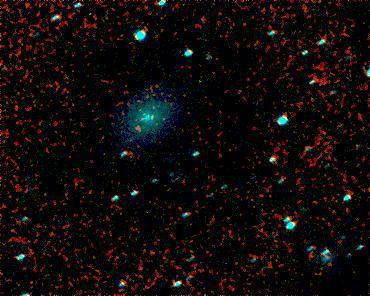star: (125, 112, 155, 142)
